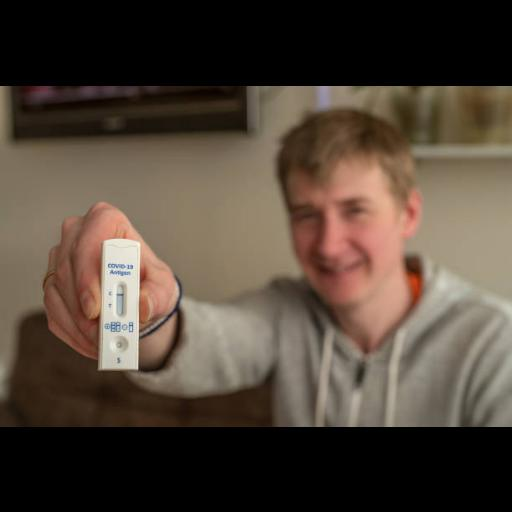Neg: (102, 238, 138, 368)
